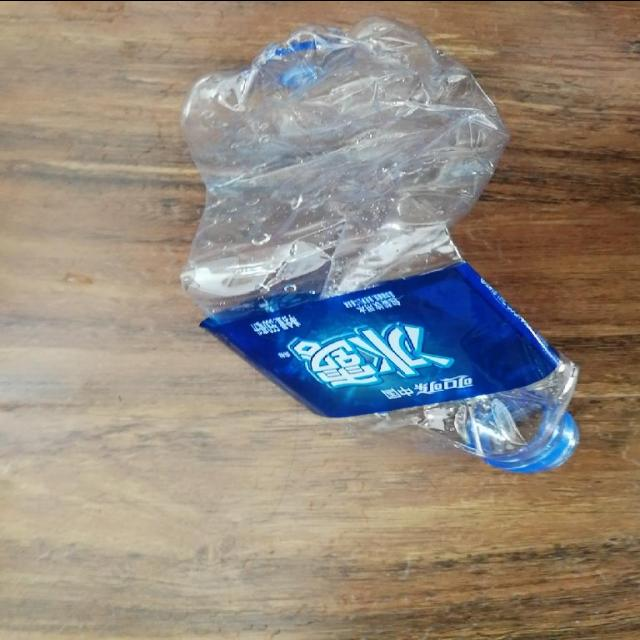-Recyclables - plastic bottle-: (176, 13, 600, 470)
